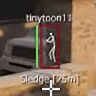hacks_3: (21, 13, 79, 85)
